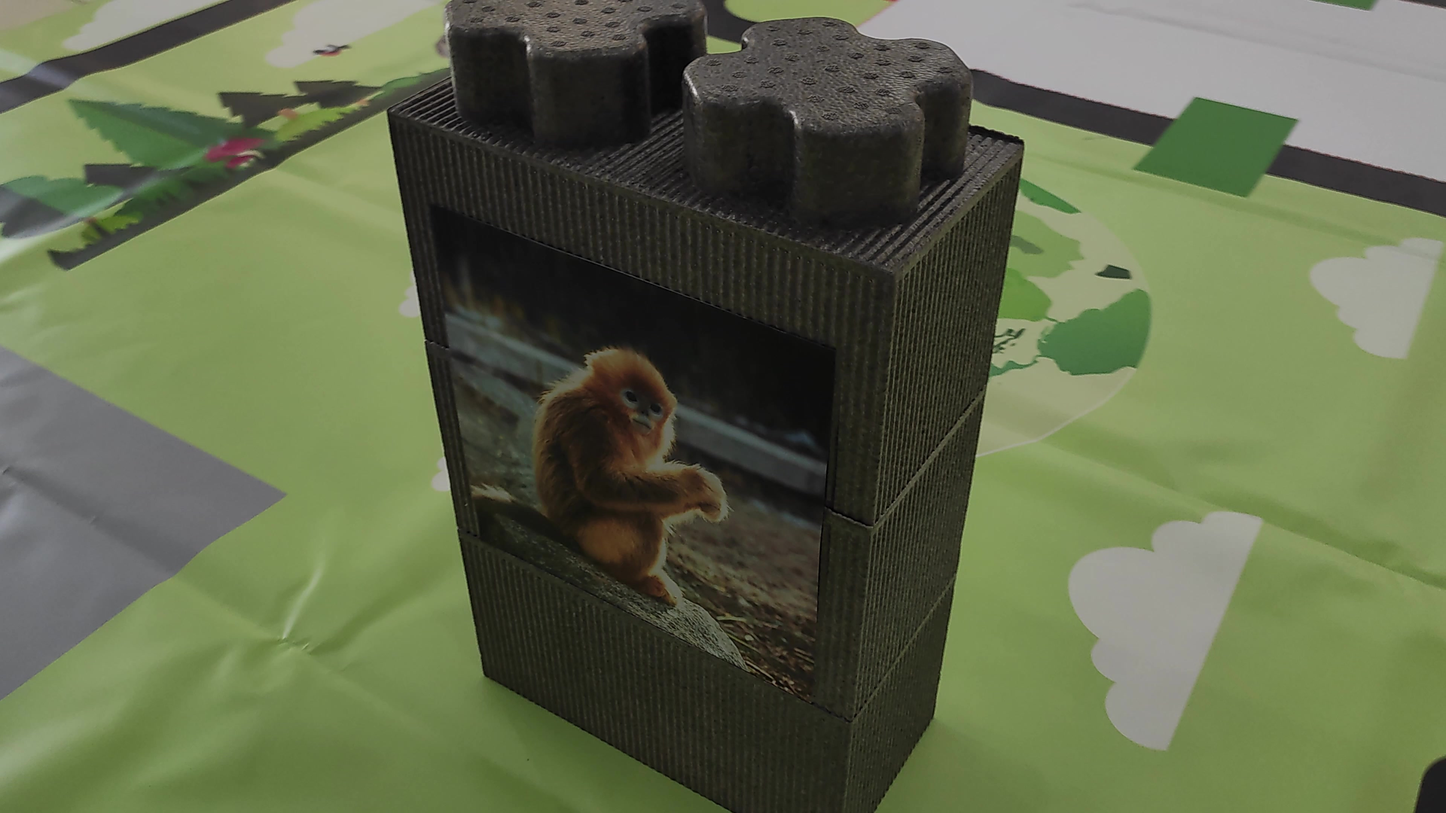monkey: (496, 331, 751, 609)
